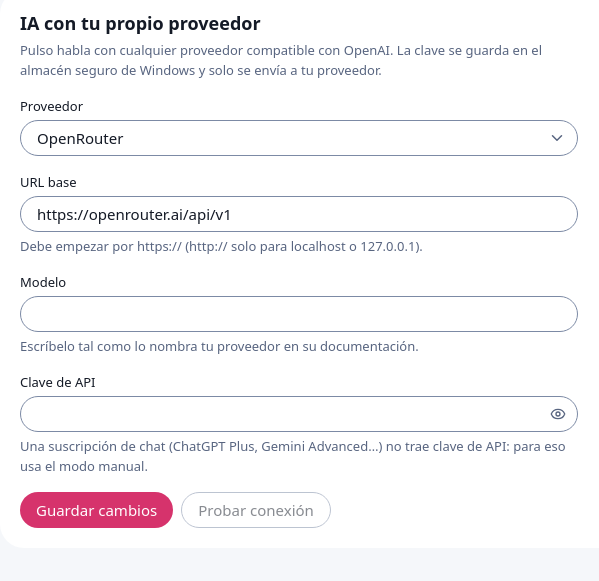
it: IA con tu propio proveedor › rechaza http:// fuera de localhost, guarda y nunca muestra la clave
The width and height of the screenshot is (599, 581).
Replace the text in the field labelled "URL base" with "http://api.ejemplo.com/v1". click: (299, 214)
box: [20,196,578,232]
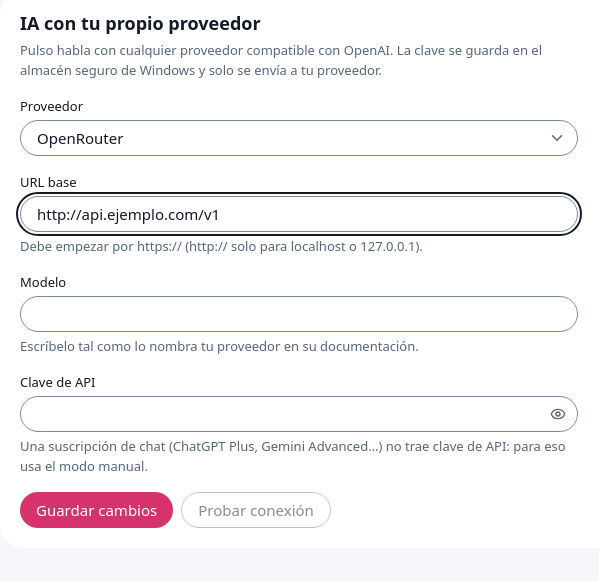
Type "modelo-x" into the field labelled "Modelo". click: (299, 314)
box: [20,296,578,332]
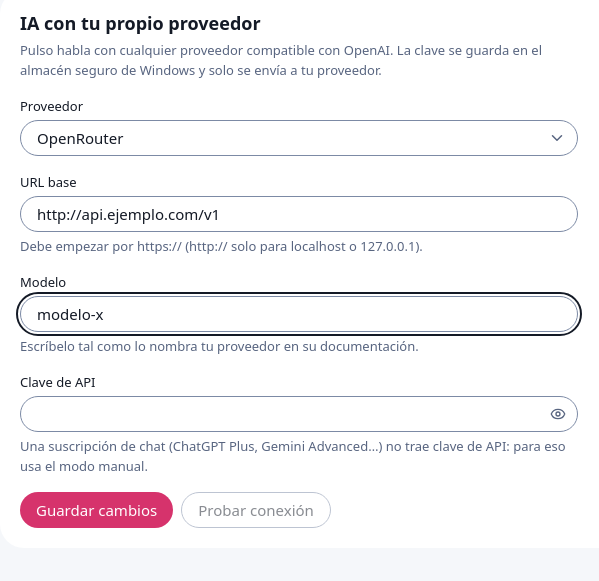
Click the button "Guardar cambios". click: (97, 510)
box: [20,492,173,528]
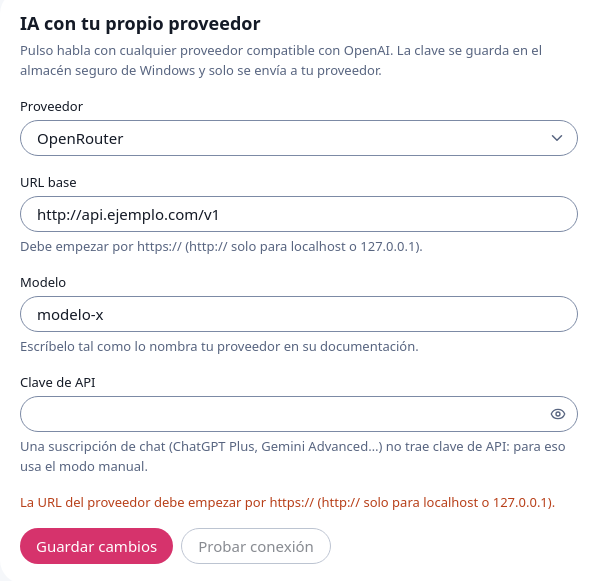
Result: the message shows "debe empezar por https://" at [20,493,555,511]
Select "Ollama (en este computador)" in the dropdown labelled "Proveedor". click: (299, 138)
box: [20,120,578,156]
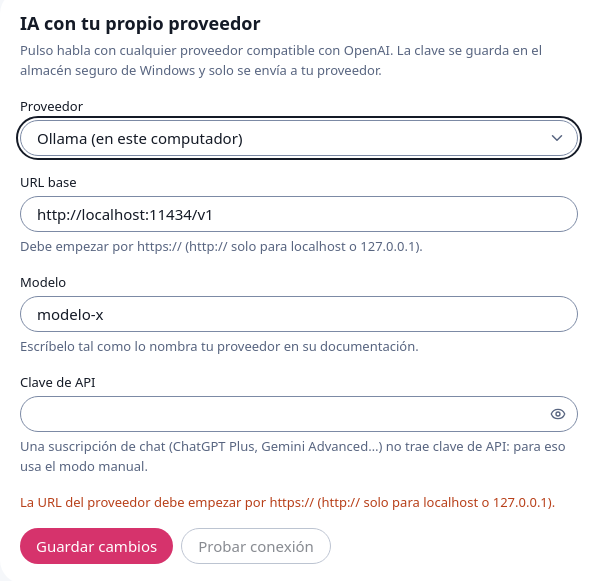
Result: the field labelled "URL base" holds "http://localhost:11434/v1" at [20,196,578,232]
Type "sk-secreta" into the password field labelled "Clave de API". click: (299, 414)
box: [20,396,578,432]
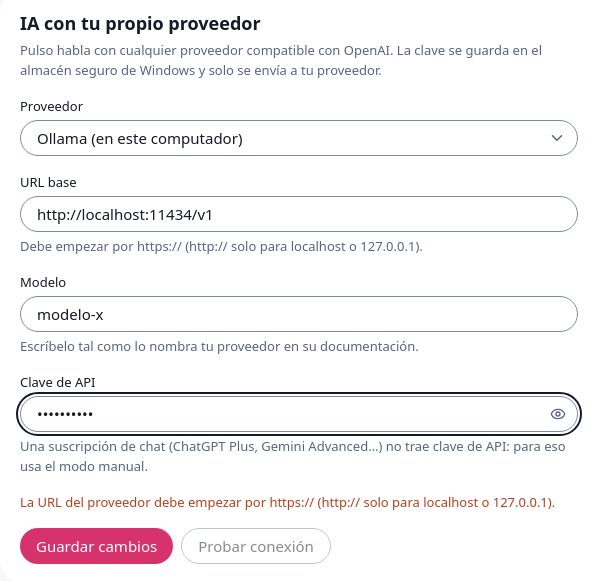
Click the button "Guardar cambios". click: (97, 546)
box: [20,528,173,564]
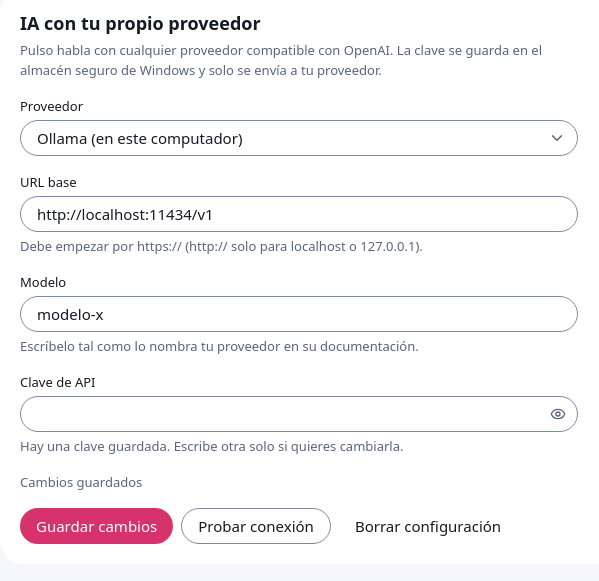
Result: the text "Cambios guardados" is shown at [20,473,142,491]
Result: the text "Hay una clave guardada" is shown at [20,437,404,455]
Result: the password field labelled "Clave de API" is empty at [20,396,578,432]
